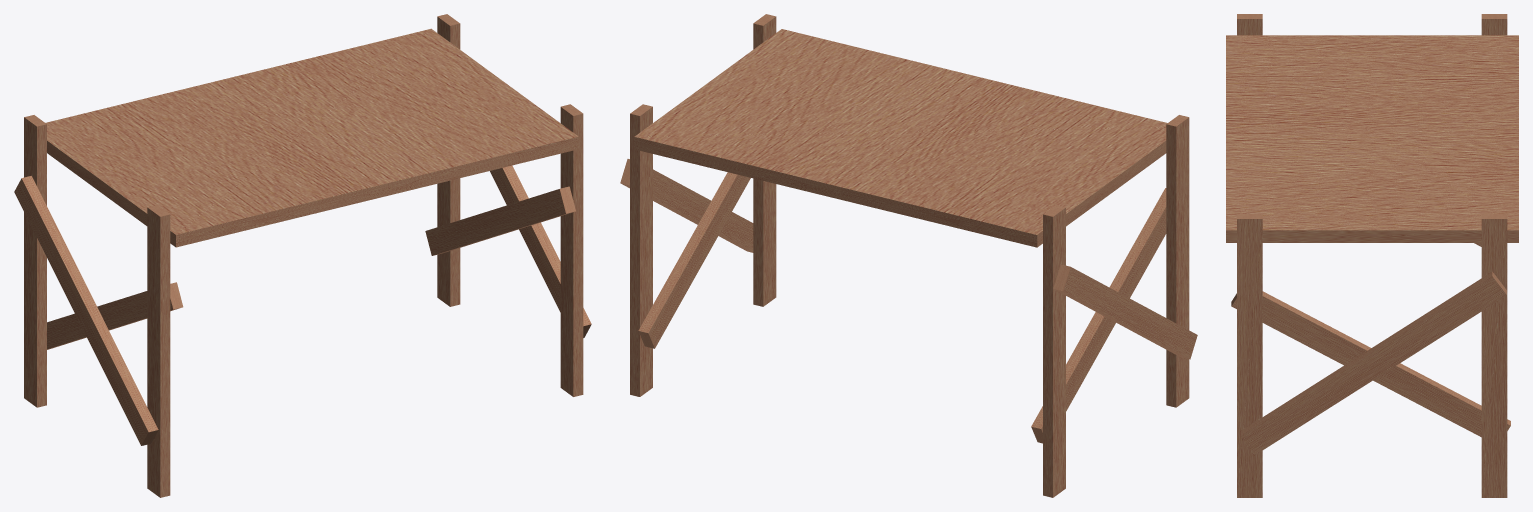
The model's file is Scaffold.FBX.
The picture shows the model from 3 angles, left to right: view 1: azimuth 30°, elevation 25°; view 2: azimuth 150°, elevation 25°; view 3: azimuth 270°, elevation 25°; orthographic projection.
Parts seen in each view (by area): view 1: Scaffold; view 2: Scaffold; view 3: Scaffold.
Boxes of the visible parts, x1,y1,x2,y2 form: Scaffold: [14, 14, 591, 497]; Scaffold: [620, 14, 1197, 497]; Scaffold: [1226, 14, 1518, 497].
Bounding box in the file's own units: 79.2 × 48 × 45.65.
